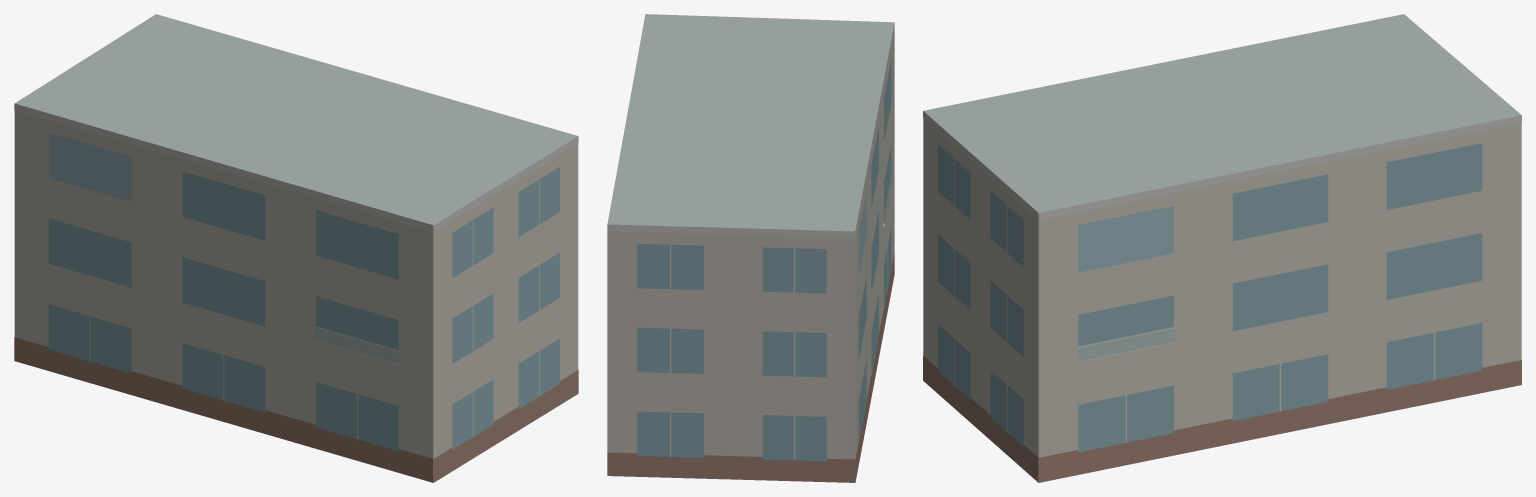
The model's file is survey-upis-32708292.glb.
3 views of the same model, side by side, from view 1: azimuth 30°, elevation 25°; view 2: azimuth 150°, elevation 25°; view 3: azimuth 270°, elevation 25° (orthographic). The views are drawn at different scales.
Parts seen in each view (by area): view 1: survey-upis-32708292.tmp; view 2: survey-upis-32708292.tmp; view 3: survey-upis-32708292.tmp.
Part boxes in pixels (x1,y1,x2,y2): survey-upis-32708292.tmp: (14,14,578,482); survey-upis-32708292.tmp: (607,14,894,482); survey-upis-32708292.tmp: (923,14,1521,482).
Size of the model in its own units: 14.49 by 9.15 by 18.41.
